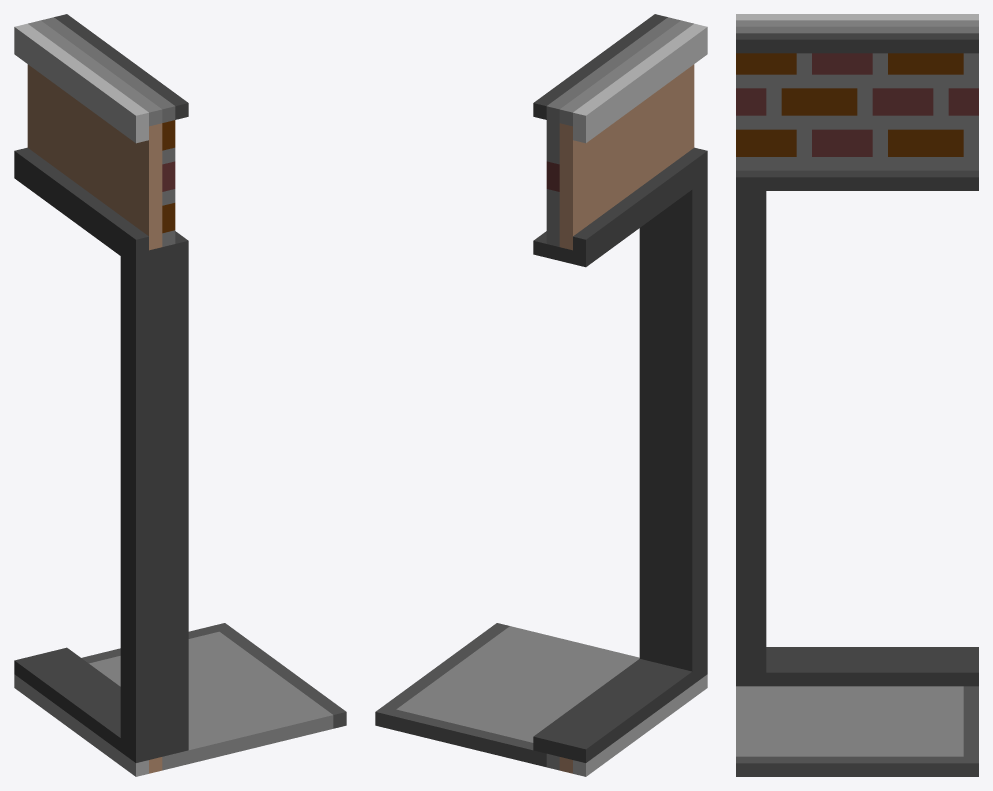
Rendered from WallsSimpleV1FrontDoorRight.obj.
The picture shows the model from 3 angles, left to right: view 1: azimuth 30°, elevation 25°; view 2: azimuth 150°, elevation 25°; view 3: azimuth 270°, elevation 25°; orthographic projection.
Size of the model in its own units: 1.6 by 4.8 by 1.6.
Materials: 1 (1 with a texture image).
